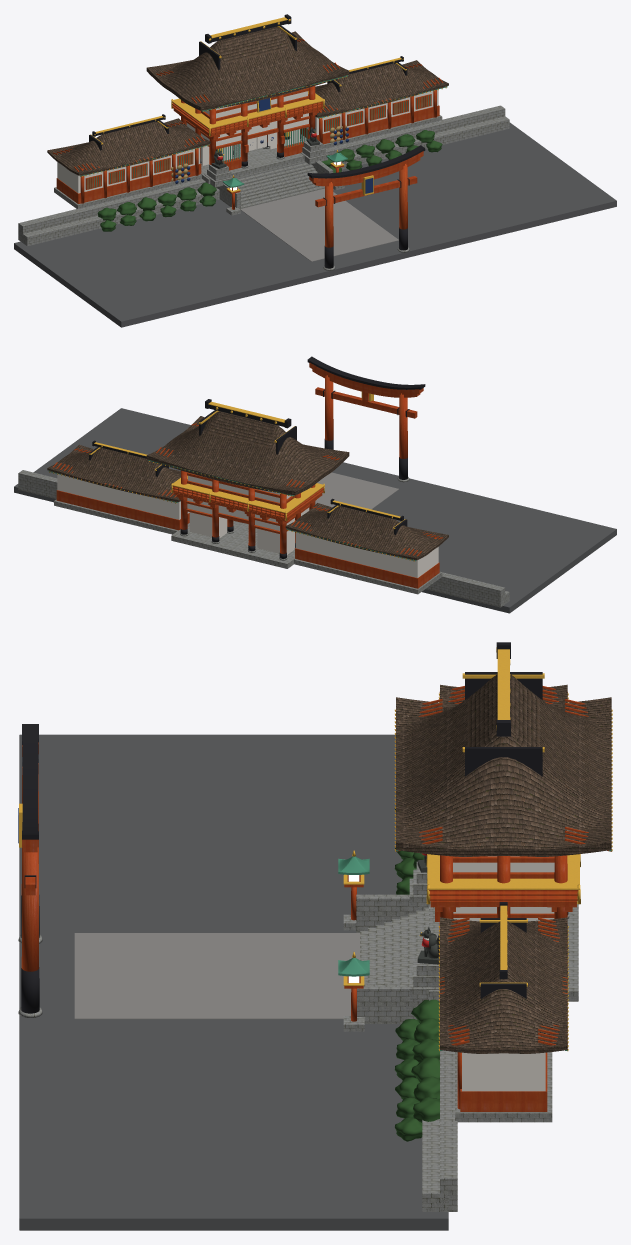
The model's file is romon.glb.
3 views of the same model, one above another, from view 1: azimuth 30°, elevation 25°; view 2: azimuth 150°, elevation 25°; view 3: azimuth 270°, elevation 25° (orthographic). The views are drawn at different scales.
Visible parts, largest first — view 1: MAT_Courtyard_Gravel_Dark, MAT_Hiwadabuki_Bark_Roof, MAT_Vermilion_ShuIro, MAT_Granite_Stone_Moss, MAT_Flagstone_Walkway, MAT_White_Shikku_Plaster, MAT_Foliage_Canopy, MAT_Black_Lacquer_Nemaki, MAT_Gold_Kanagu_Leaf, MAT_Copper_Patina_Green, MAT_Blue_Hengaku_Plaque; view 2: MAT_Courtyard_Gravel_Dark, MAT_Hiwadabuki_Bark_Roof, MAT_Vermilion_ShuIro, MAT_White_Shikku_Plaster, MAT_Granite_Stone_Moss, MAT_Black_Lacquer_Nemaki, MAT_Gold_Kanagu_Leaf, MAT_Flagstone_Walkway, MAT_Copper_Patina_Green; view 3: MAT_Courtyard_Gravel_Dark, MAT_Hiwadabuki_Bark_Roof, MAT_Flagstone_Walkway, MAT_Granite_Stone_Moss, MAT_Vermilion_ShuIro, MAT_Black_Lacquer_Nemaki, MAT_Foliage_Canopy, MAT_Gold_Kanagu_Leaf, MAT_White_Shikku_Plaster, MAT_Copper_Patina_Green.
Part boxes in pixels (<box>): MAT_Courtyard_Gravel_Dark: <box>14,122,616,327</box>; MAT_Hiwadabuki_Bark_Roof: <box>47,26,448,175</box>; MAT_Vermilion_ShuIro: <box>53,38,446,247</box>; MAT_Granite_Stone_Moss: <box>18,105,509,270</box>; MAT_Flagstone_Walkway: <box>241,188,398,261</box>; MAT_White_Shikku_Plaster: <box>57,89,438,193</box>; MAT_Foliage_Canopy: <box>97,130,442,231</box>; MAT_Black_Lacquer_Nemaki: <box>89,14,425,268</box>; MAT_Gold_Kanagu_Leaf: <box>81,17,446,195</box>; MAT_Copper_Patina_Green: <box>80,75,447,188</box>; MAT_Blue_Hengaku_Plaque: <box>175,98,373,193</box>; MAT_Courtyard_Gravel_Dark: <box>14,408,616,613</box>; MAT_Hiwadabuki_Bark_Roof: <box>47,411,448,560</box>; MAT_Vermilion_ShuIro: <box>49,362,442,588</box>; MAT_White_Shikku_Plaster: <box>57,474,438,577</box>; MAT_Granite_Stone_Moss: <box>18,470,509,607</box>; MAT_Black_Lacquer_Nemaki: <box>89,356,425,558</box>; MAT_Gold_Kanagu_Leaf: <box>49,392,414,561</box>; MAT_Flagstone_Walkway: <box>315,472,398,509</box>; MAT_Copper_Patina_Green: <box>48,460,416,561</box>; MAT_Courtyard_Gravel_Dark: <box>19,734,448,1230</box>; MAT_Hiwadabuki_Bark_Roof: <box>396,674,611,1053</box>; MAT_Flagstone_Walkway: <box>74,933,360,1019</box>; MAT_Granite_Stone_Moss: <box>18,861,578,1211</box>; MAT_Vermilion_ShuIro: <box>21,686,611,1111</box>; MAT_Black_Lacquer_Nemaki: <box>21,642,568,1013</box>; MAT_Foliage_Canopy: <box>394,806,439,1141</box>; MAT_Gold_Kanagu_Leaf: <box>19,647,612,1051</box>; MAT_White_Shikku_Plaster: <box>423,856,554,1091</box>; MAT_Copper_Patina_Green: <box>338,850,611,1050</box>.
Bounding box in the file's own units: 52 × 15.33 × 27.01.
15 materials, 4 textured.
